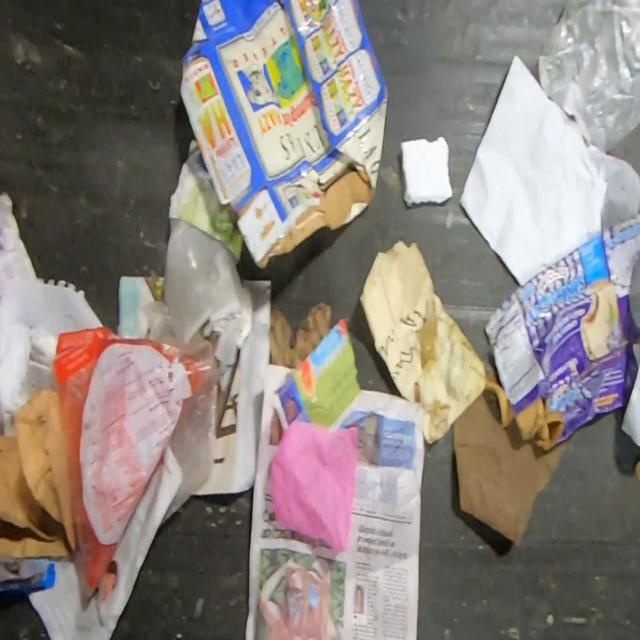cardboard: (178, 0, 390, 272), (482, 211, 640, 453), (52, 324, 124, 380)
rigid_plastic: (162, 215, 254, 347)
soft_plastic: (20, 297, 220, 600), (536, 0, 640, 155)
